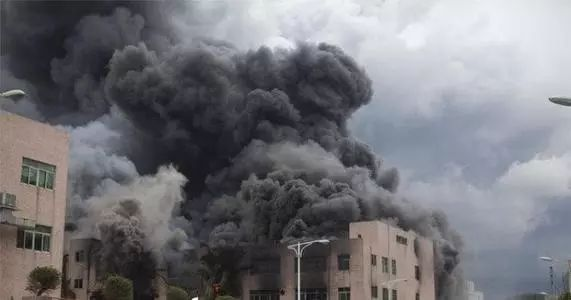smoke: (62, 13, 394, 217)
